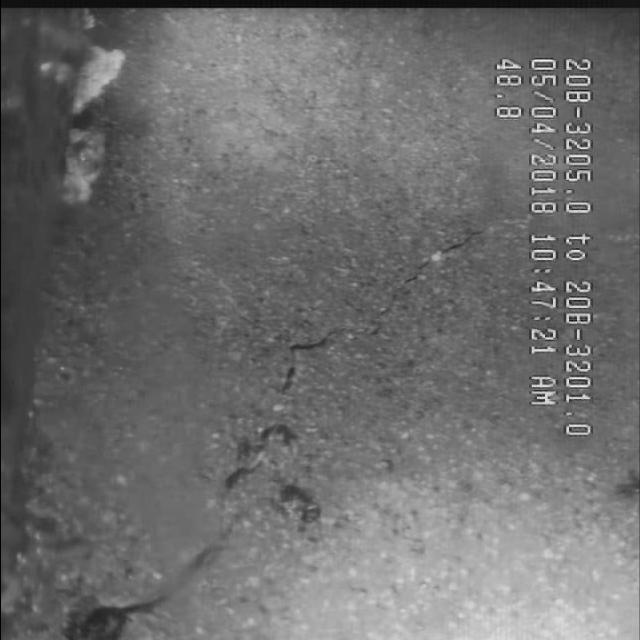Crack: (138, 238, 490, 588)
